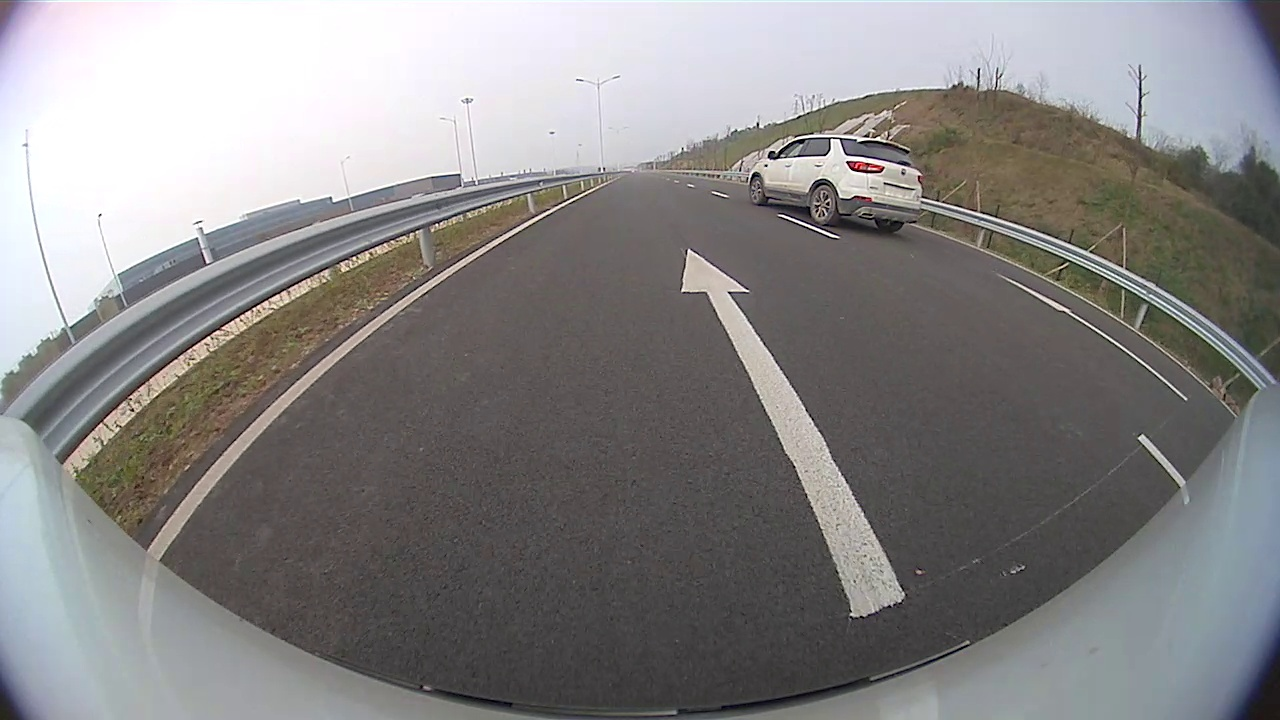car: (748, 133, 924, 233)
front: (748, 174, 768, 207)
rear: (810, 183, 840, 228)
